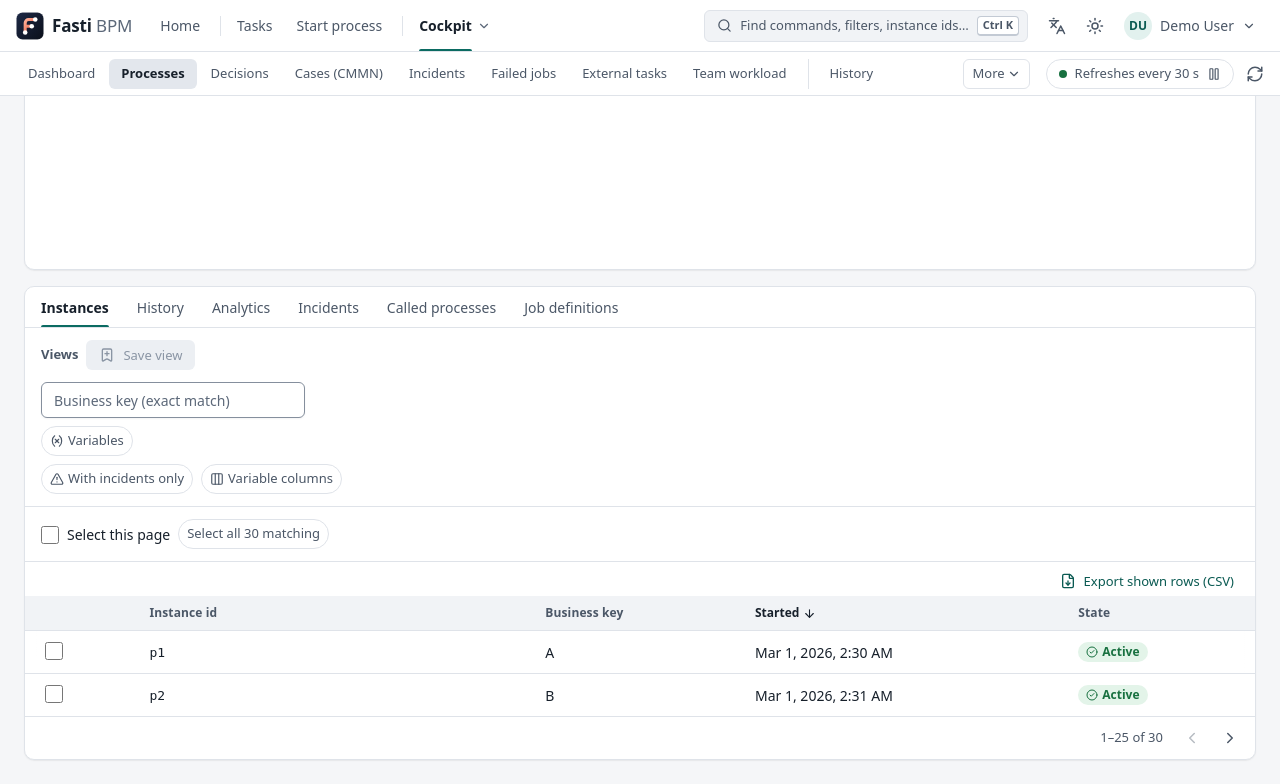
Scenario: bulk operations › drops the selection when the filter of the list changes
The width and height of the screenshot is (1280, 784).
(page scrolled)
Click the checkbox named "Select instance p1" at (54, 651), box x1=45 y1=642 x2=63 y2=660
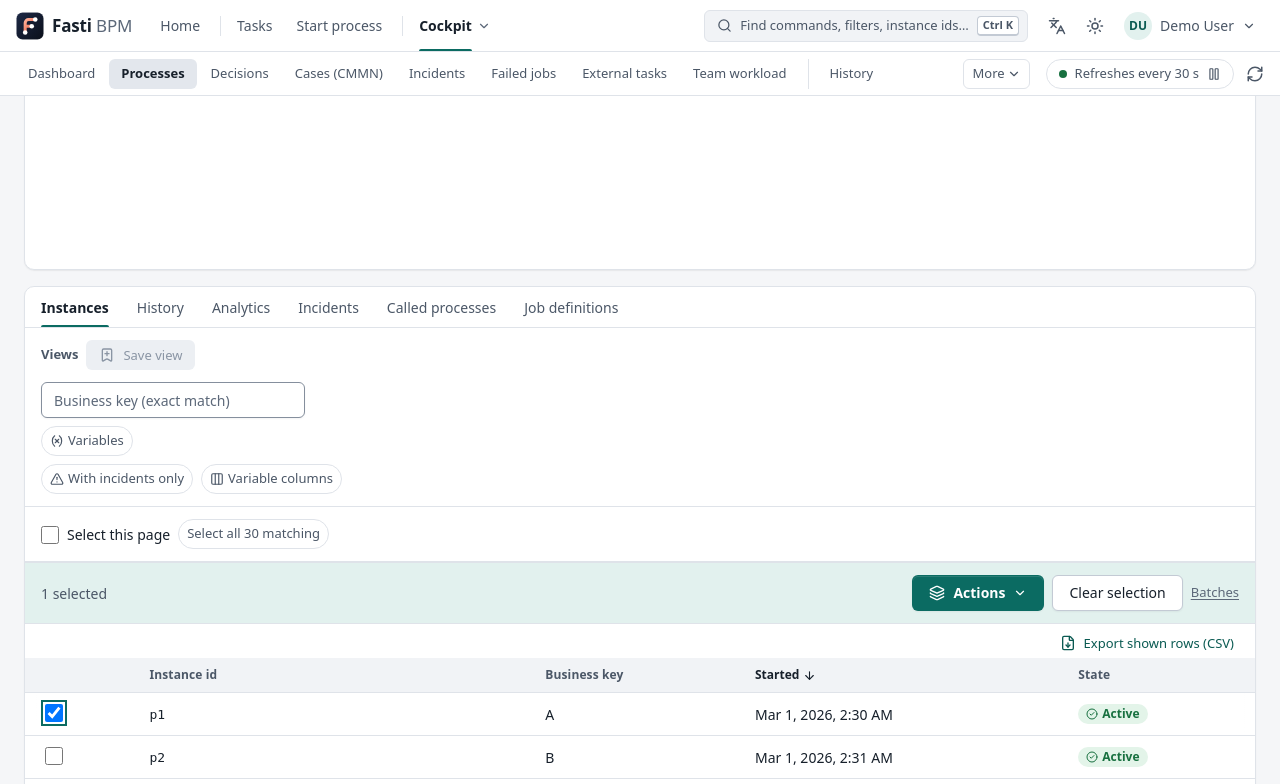
Click the button "Select all 30 matching" at (254, 534), box x1=178 y1=519 x2=329 y2=549
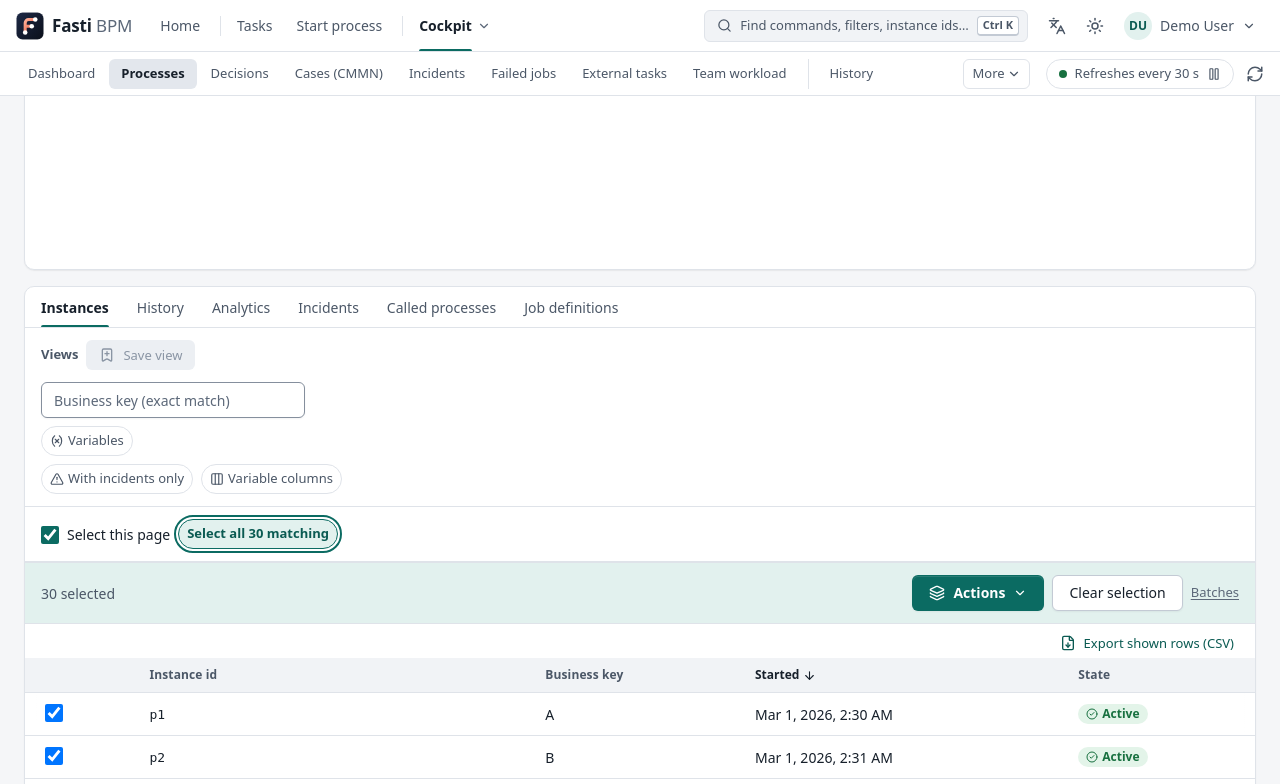
Check: the text "30 selected" is shown, box x1=41 y1=584 x2=115 y2=603
Click the button "With incidents only" at (117, 479), box x1=41 y1=464 x2=193 y2=494
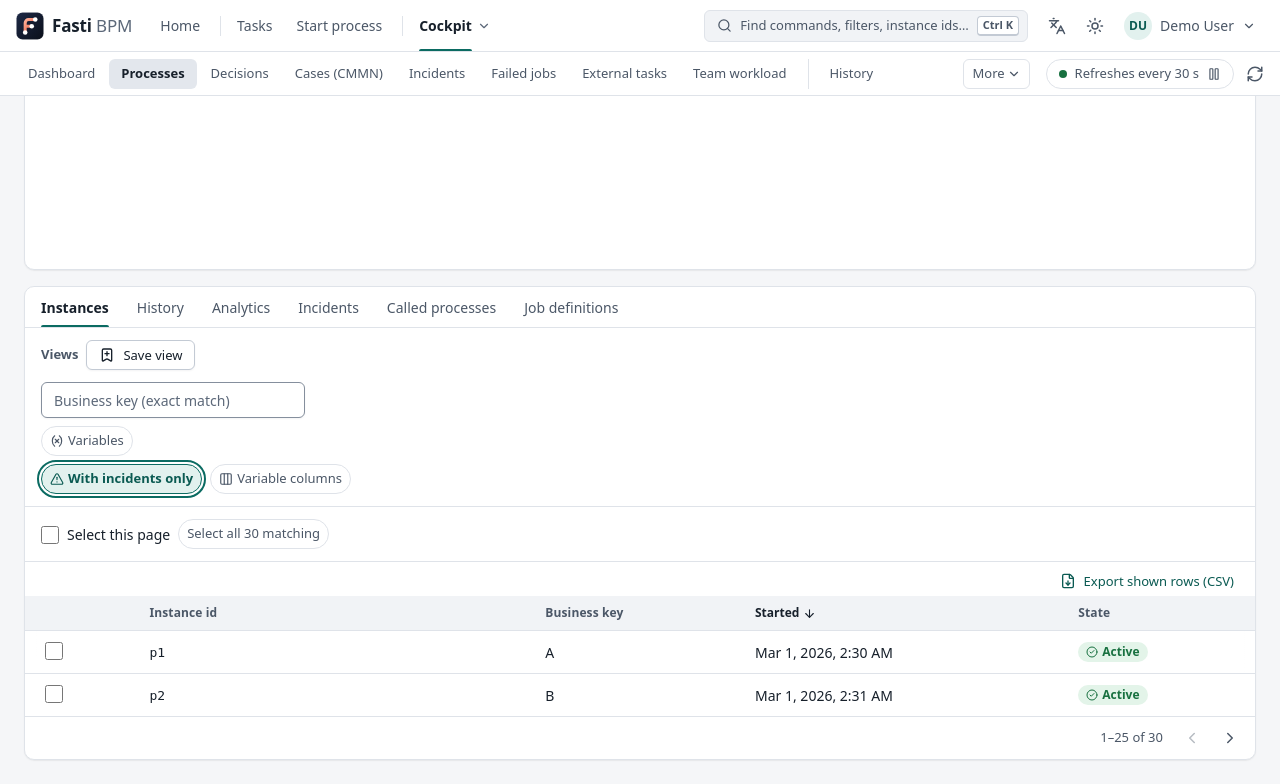
Check: the text "30 selected" is gone
